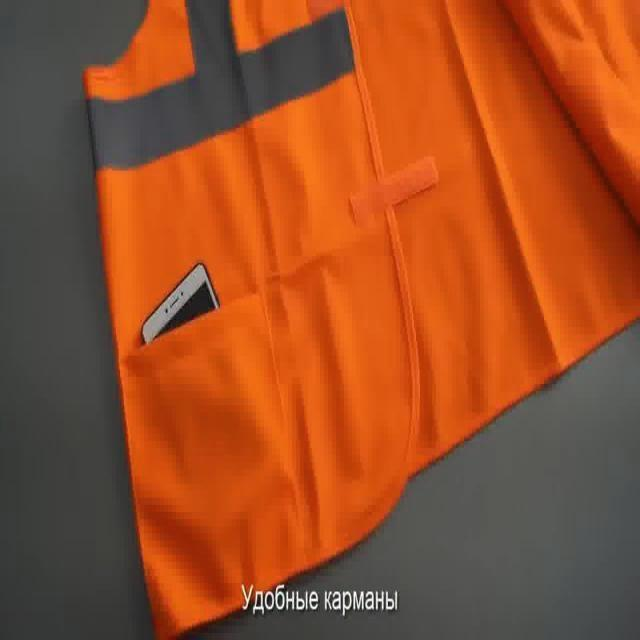vest: (82, 0, 640, 640)
